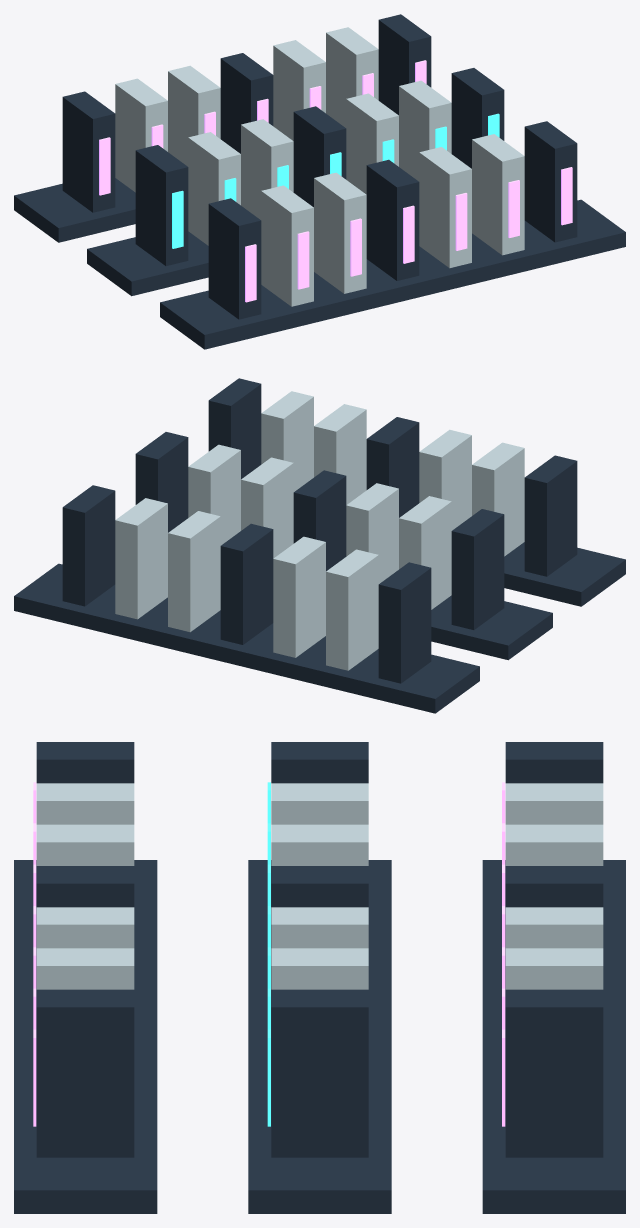
The model's file is library.glb.
3 renders of one model, top to bottom at view 1: azimuth 30°, elevation 25°; view 2: azimuth 150°, elevation 25°; view 3: azimuth 270°, elevation 25°, orthographic. The views are drawn at different scales.
Visible parts, largest first — view 1: Shelf, Volume_0_0, Volume_0_6, Volume_1_0, Volume_2_0, Volume_0_3, Volume_0_2, Volume_0_1, Volume_0_5, Volume_0_4, Shelf.002, Shelf.001 (+21 smaller); view 2: Shelf.002, Volume_0_0, Volume_1_0, Volume_2_0, Volume_2_3, Volume_2_6, Volume_2_1, Volume_2_2, Volume_2_4, Volume_2_5, Shelf, Shelf.001 (+12 smaller); view 3: Shelf.001, Shelf, Shelf.002, Volume_0_6, Volume_2_6, Volume_1_6, Volume_0_1, Volume_0_5, Volume_2_1, Volume_2_5, Volume_0_0, Volume_0_2 (+12 smaller).
Part boxes in pixels (x1=…): Shelf: x1=160, y1=199, x2=625, y2=349; Volume_0_0: x1=208, y1=198, x2=261, y2=319; Volume_0_6: x1=524, y1=121, x2=577, y2=242; Volume_1_0: x1=135, y1=145, x2=188, y2=265; Volume_2_0: x1=62, y1=91, x2=115, y2=212; Volume_0_3: x1=366, y1=159, x2=419, y2=280; Volume_0_2: x1=314, y1=172, x2=366, y2=293; Volume_0_1: x1=261, y1=185, x2=313, y2=306; Volume_0_5: x1=472, y1=134, x2=524, y2=255; Volume_0_4: x1=419, y1=147, x2=471, y2=268; Shelf.002: x1=14, y1=178, x2=135, y2=242; Shelf.001: x1=87, y1=231, x2=208, y2=296; Shelf.002: x1=14, y1=563, x2=479, y2=713; Volume_0_0: x1=524, y1=455, x2=577, y2=576; Volume_1_0: x1=451, y1=509, x2=504, y2=629; Volume_2_0: x1=378, y1=562, x2=431, y2=683; Volume_2_3: x1=220, y1=523, x2=273, y2=644; Volume_2_6: x1=62, y1=485, x2=115, y2=606; Volume_2_1: x1=326, y1=549, x2=378, y2=670; Volume_2_2: x1=273, y1=536, x2=325, y2=657; Volume_2_4: x1=168, y1=511, x2=220, y2=632; Volume_2_5: x1=115, y1=498, x2=167, y2=619; Shelf: x1=504, y1=542, x2=625, y2=606; Shelf.001: x1=431, y1=595, x2=552, y2=660; Shelf.001: x1=248, y1=860, x2=391, y2=1213; Shelf: x1=14, y1=860, x2=157, y2=1213; Shelf.002: x1=482, y1=860, x2=625, y2=1213; Volume_0_6: x1=36, y1=989, x2=134, y2=1157; Volume_2_6: x1=505, y1=989, x2=603, y2=1157; Volume_1_6: x1=271, y1=989, x2=368, y2=1157; Volume_0_1: x1=36, y1=783, x2=134, y2=824; Volume_0_5: x1=36, y1=948, x2=134, y2=989; Volume_2_1: x1=505, y1=783, x2=603, y2=824; Volume_2_5: x1=505, y1=948, x2=603, y2=989; Volume_0_0: x1=36, y1=742, x2=134, y2=783; Volume_0_2: x1=36, y1=824, x2=134, y2=865.
Size of the model in its own units: 6 by 1.48 by 4.7.
